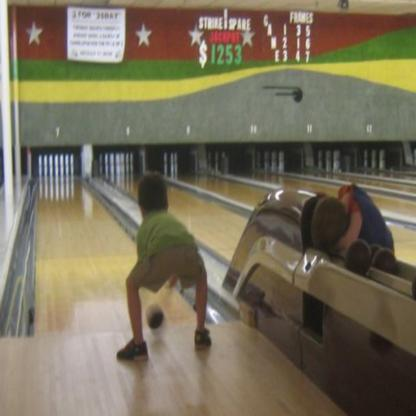Ball: (145, 303, 163, 330)
